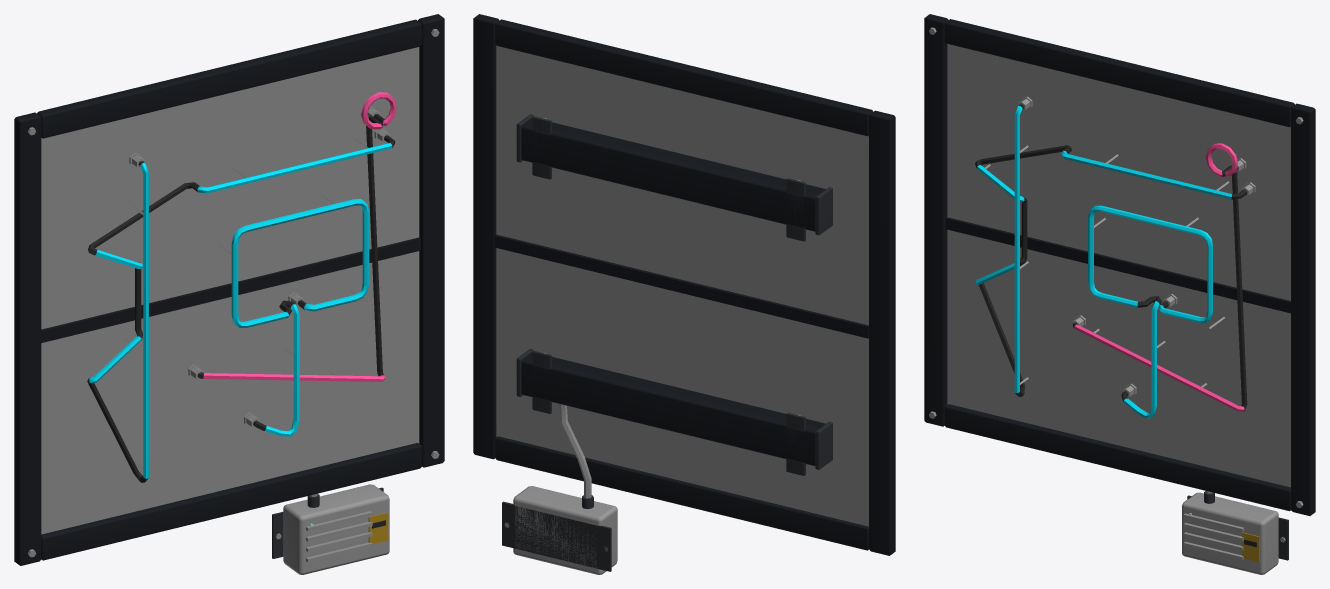
Rendered from Neon_Glyph_B.fbx.
The picture shows the model from 3 angles, left to right: view 1: azimuth 30°, elevation 25°; view 2: azimuth 150°, elevation 25°; view 3: azimuth 330°, elevation 25°; orthographic projection. The views are drawn at different scales.
Parts seen in each view (by area): view 1: Neon_Glyph_B_LOD0; view 2: Neon_Glyph_B_LOD0; view 3: Neon_Glyph_B_LOD0.
Boxes of the visible parts, x1,y1,x2,y2 form: Neon_Glyph_B_LOD0: [14, 14, 444, 574]; Neon_Glyph_B_LOD0: [473, 14, 895, 574]; Neon_Glyph_B_LOD0: [924, 14, 1315, 574].
Size of what is drawn, in the model's own units: 1.12 by 1.32 by 0.1695.
